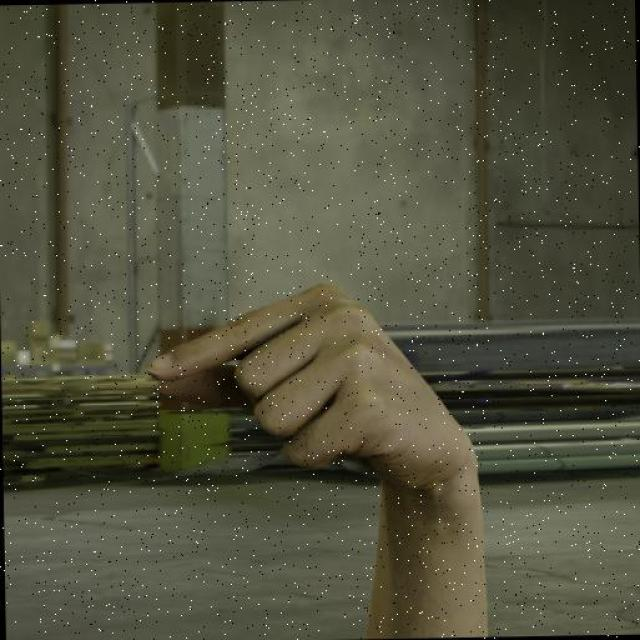G: (138, 274, 480, 504)
